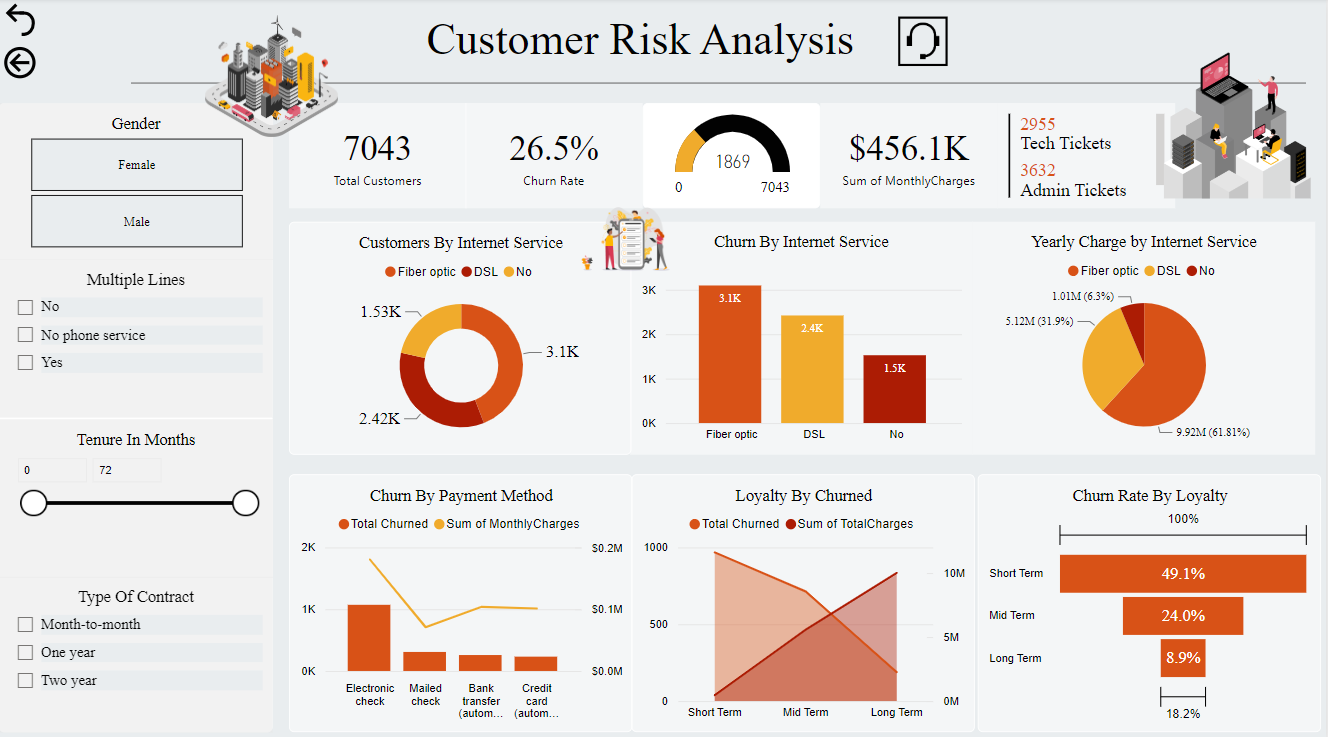

The dashboard page shown, as its layout file describes it:
{"tool":"powerbi","page":{"name":"Customer Risk Analysis","canvas":[1280,720],"ordinal":2},"visuals":[{"type":"image","box":[856.2,6.9,70.9,68.1],"z":1000},{"type":"textbox","box":[412.8,15,443.4,52.8],"z":2000},{"type":"basicShape","box":[106.9,61.2,1173.1,40.3],"z":3000},{"type":"actionButton","box":[0,0,43.1,41.7],"z":4000},{"type":"shape","box":[0,101.5,264.1,607.4],"z":5000},{"type":"card","fields":{"Values":["Measure Table.Total Customers"]},"box":[279.4,101.5,171,101.5],"z":6000},{"type":"card","fields":{"Values":["Measure Table.Churn Rate"]},"box":[450.3,101.5,171,101.5],"z":7000},{"type":"gauge","fields":{"Y":["Measure Table.Total Churned"],"MaxValue":["Measure Table.Total Customers"]},"box":[621.3,101.5,171,101.5],"z":8000},{"type":"card","fields":{"Values":["Sum(01 Churn-Dataset.MonthlyCharges)"]},"box":[792.3,101.5,171,101.5],"z":9000},{"type":"multiRowCard","title":"Paperless Billing","fields":{"Values":["Sum(01 Churn-Dataset.numTechTickets)","Sum(01 Churn-Dataset.numAdminTickets)"]},"box":[963.2,101.5,171,101.5],"z":10000},{"type":"image","box":[1109.2,41.7,171,161.2],"z":11000},{"type":"donutChart","title":"Customers By Internet Service ","fields":{"Y":["CountNonNull(01 Churn-Dataset.Churn)"],"Category":["01 Churn-Dataset.InternetService"]},"box":[279.4,215.4,330,225],"z":12000},{"type":"clusteredColumnChart","title":"Churn By Internet Service","fields":{"Y":["CountNonNull(01 Churn-Dataset.Churn)"],"Category":["01 Churn-Dataset.InternetService"]},"box":[609.5,215.4,330,225],"z":13000},{"type":"pieChart","title":"Yearly Charge by Internet Service","fields":{"Y":["Sum(01 Churn-Dataset.TotalCharges)"],"Category":["01 Churn-Dataset.InternetService"]},"box":[939.6,215.4,330,225.2],"z":14000},{"type":"image","box":[546.3,187.6,126.5,90.3],"z":15000},{"type":"lineStackedColumnComboChart","title":"Churn By Payment Method","fields":{"Category":["01 Churn-Dataset.PaymentMethod"],"Y":["Measure Table.Total Churned"],"Y2":["Sum(01 Churn-Dataset.MonthlyCharges)"]},"box":[279.4,460.1,330.8,248.8],"z":16000},{"type":"areaChart","title":"Loyalty By Churned","fields":{"Y":["Measure Table.Total Churned"],"Category":["01 Churn-Dataset.Loyalty "],"Y2":["Sum(01 Churn-Dataset.TotalCharges)"]},"box":[610.2,460.1,330.8,248.8],"z":17000},{"type":"funnel","title":"Churn Rate By Loyalty ","fields":{"Category":["01 Churn-Dataset.Loyalty "],"Y":["Measure Table.Churn Rate"]},"box":[943.8,460.1,330.8,248.8],"z":18000},{"type":"slicer","title":"Gender","fields":{"Values":["01 Churn-Dataset.gender"]},"box":[0,101.5,264.1,151.5],"z":19000},{"type":"image","box":[184.9,5.6,157.1,137.6],"z":20000},{"type":"slicer","title":"Tenure In Months","fields":{"Values":["01 Churn-Dataset.tenure"]},"box":[0,405.9,264.1,152.9],"z":21000},{"type":"slicer","title":"Multiple Lines","fields":{"Values":["01 Churn-Dataset.MultipleLines"]},"box":[0,251.6,264.1,152.9],"z":22000},{"type":"slicer","title":"Type Of Contract","fields":{"Values":["01 Churn-Dataset.Contract"]},"box":[0,558.8,264.1,150.1],"z":23000},{"type":"actionButton","box":[0,41.7,100.1,40.3],"z":24000}]}

Visuals, with their boxes in screenshot pixels (x1, y1, x2, y2), scaled from the page's 1280x720 canvas onto the 1328x737 screenshot:
image: l=888, t=7, r=962, b=77
textbox: l=428, t=15, r=888, b=69
basicShape: l=111, t=63, r=1327, b=104
actionButton: l=0, t=0, r=45, b=43
shape: l=0, t=104, r=274, b=726
card - Measure Table.Total Customers: l=290, t=104, r=467, b=208
card - Measure Table.Churn Rate: l=467, t=104, r=645, b=208
gauge - Measure Table.Total Churned x Measure Table.Total Customers: l=645, t=104, r=822, b=208
card - Sum(01 Churn-Dataset.MonthlyCharges): l=822, t=104, r=999, b=208
"Paperless Billing" multiRowCard: l=999, t=104, r=1177, b=208
image: l=1151, t=43, r=1327, b=208
"Customers By Internet Service " donutChart: l=290, t=220, r=632, b=451
"Churn By Internet Service" clusteredColumnChart: l=632, t=220, r=975, b=451
"Yearly Charge by Internet Service" pieChart: l=975, t=220, r=1317, b=451
image: l=567, t=192, r=698, b=284
"Churn By Payment Method" lineStackedColumnComboChart: l=290, t=471, r=633, b=726
"Loyalty By Churned" areaChart: l=633, t=471, r=976, b=726
"Churn Rate By Loyalty " funnel: l=979, t=471, r=1322, b=726
"Gender" slicer: l=0, t=104, r=274, b=259
image: l=192, t=6, r=355, b=147
"Tenure In Months" slicer: l=0, t=415, r=274, b=572
"Multiple Lines" slicer: l=0, t=258, r=274, b=414
"Type Of Contract" slicer: l=0, t=572, r=274, b=726
actionButton: l=0, t=43, r=104, b=84
